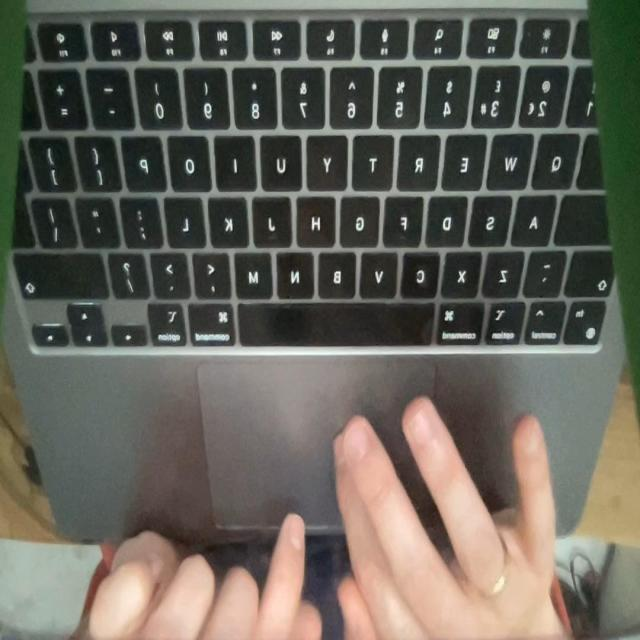keyboard-with-hands: (0, 0, 626, 537)
